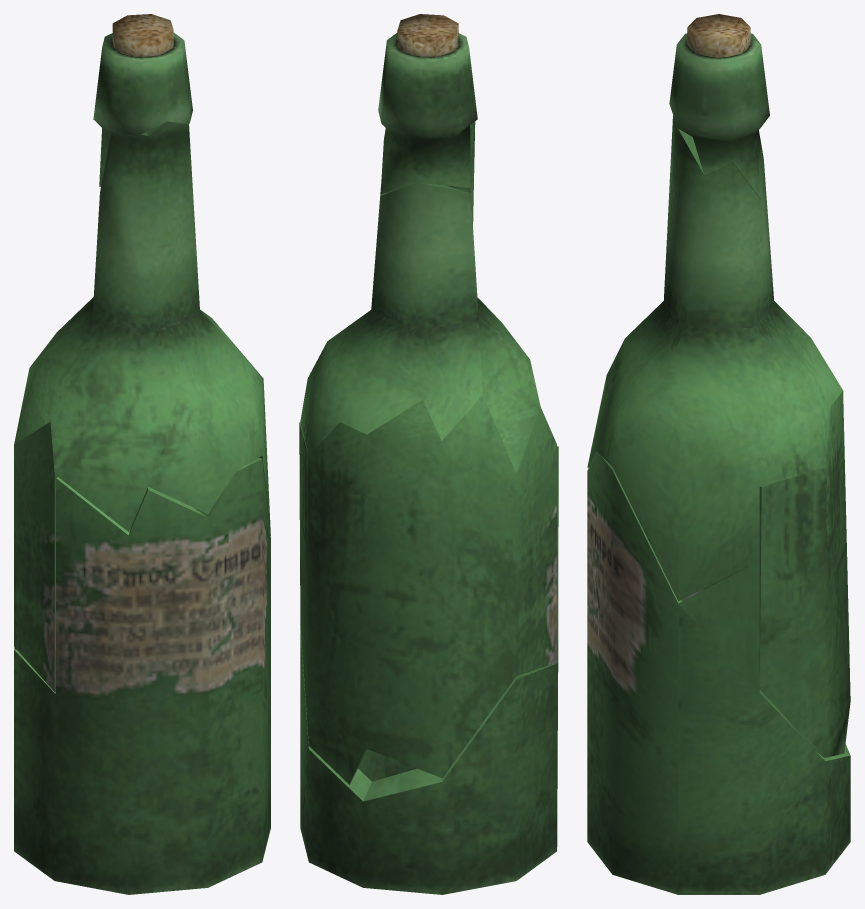
The model's file is wine01_broken.dae.
3 views of the same model, side by side, from view 1: azimuth 30°, elevation 25°; view 2: azimuth 150°, elevation 25°; view 3: azimuth 270°, elevation 25° (orthographic).
Visible parts, largest first — view 1: wine01_broken01, wine01_broken03, wine01_broken02, wine01_broken04; view 2: wine01_broken02, wine01_broken01, wine01_broken03, wine01_broken04; view 3: wine01_broken01, wine01_broken03, wine01_broken02, wine01_broken04.
Part boxes in pixels (left/top/right/bottom): wine01_broken01: left=14, top=458, right=270, bottom=894; wine01_broken03: left=14, top=121, right=270, bottom=535; wine01_broken02: left=14, top=359, right=199, bottom=692; wine01_broken04: left=93, top=14, right=192, bottom=186; wine01_broken02: left=299, top=395, right=556, bottom=784; wine01_broken01: left=300, top=446, right=558, bottom=894; wine01_broken03: left=300, top=121, right=540, bottom=473; wine01_broken04: left=378, top=14, right=477, bottom=193; wine01_broken01: left=587, top=455, right=850, bottom=894; wine01_broken03: left=587, top=115, right=842, bottom=601; wine01_broken02: left=683, top=390, right=850, bottom=757; wine01_broken04: left=669, top=14, right=769, bottom=198.
Bounding box in the file's own units: 0.0964 × 0.3461 × 0.1013.
